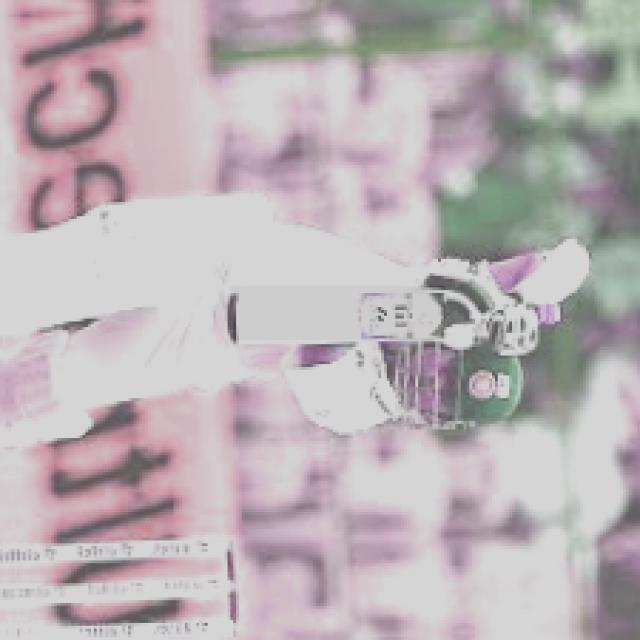bat: (223, 291, 475, 349)
toe: (221, 294, 238, 347)
